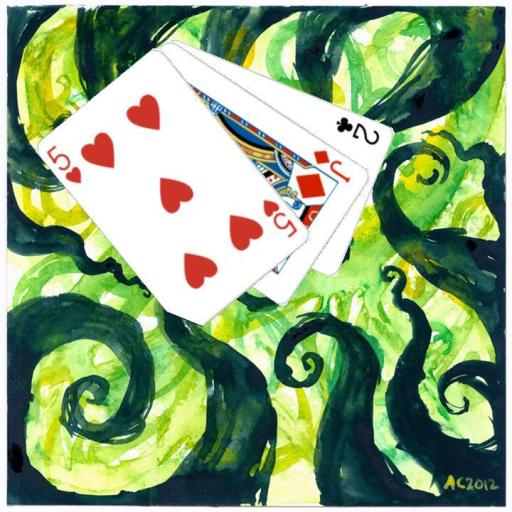2C: (333, 113, 382, 147)
5H: (43, 142, 84, 186), (260, 196, 300, 240)
JD: (310, 147, 353, 184)
